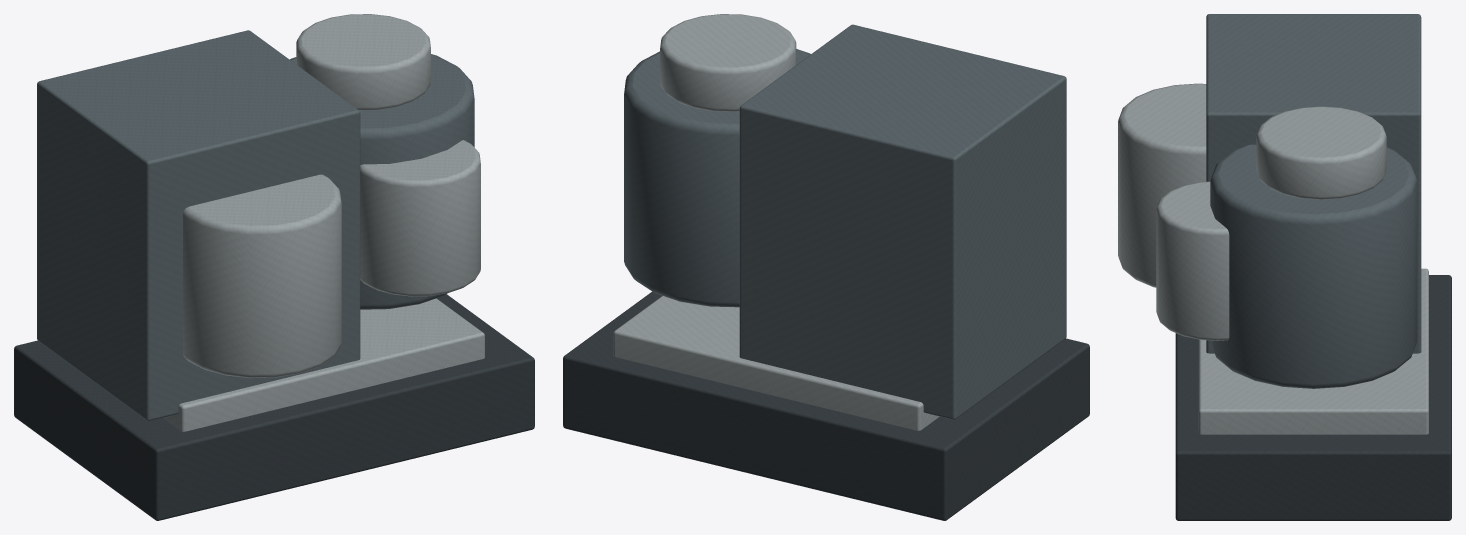
The model's file is IndustrialWaterPump.glb.
3 views of the same model, side by side, from view 1: azimuth 30°, elevation 25°; view 2: azimuth 150°, elevation 25°; view 3: azimuth 270°, elevation 25° (orthographic). The views are drawn at different scales.
Visible parts, largest first — view 1: IndustrialWaterPump_Mesh; view 2: IndustrialWaterPump_Mesh; view 3: IndustrialWaterPump_Mesh.
Part boxes in pixels (x1,y1,x2,y2): IndustrialWaterPump_Mesh: (14,14,534,520); IndustrialWaterPump_Mesh: (563,14,1089,520); IndustrialWaterPump_Mesh: (1118,14,1451,520).
Size of the model in its own units: 1.1 by 0.99 by 0.87.
4 materials, 4 textured.
